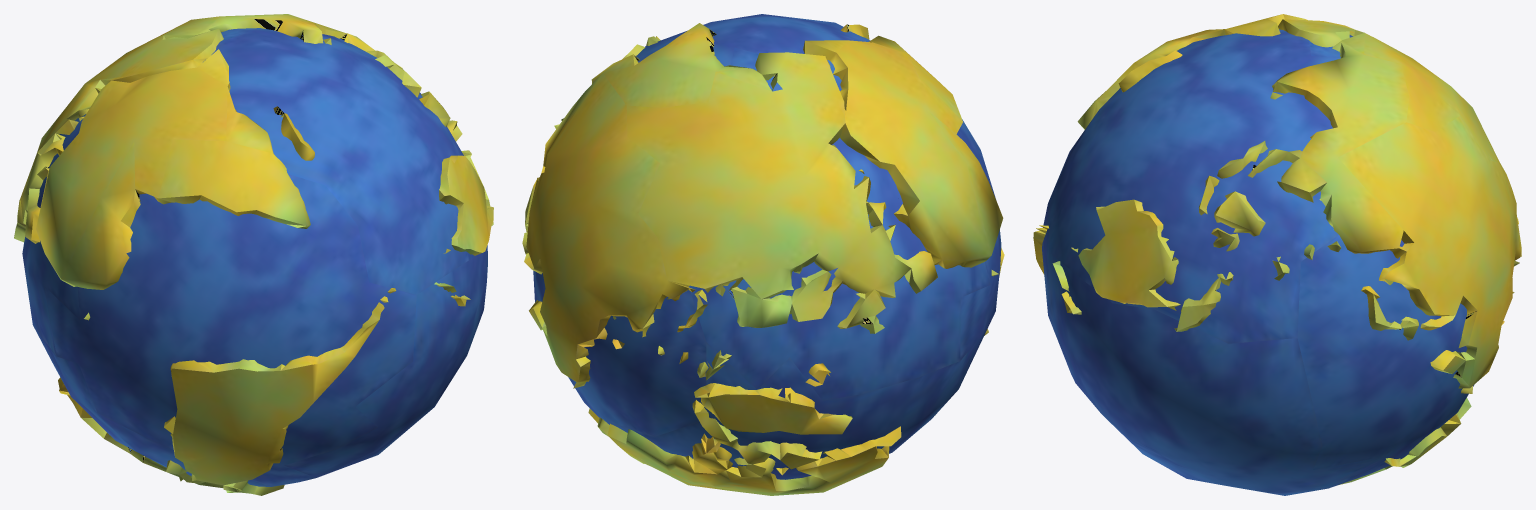
The model's file is Earth.fbx.
The picture shows the model from 3 angles, left to right: view 1: azimuth 30°, elevation 25°; view 2: azimuth 150°, elevation 25°; view 3: azimuth 270°, elevation 25°; orthographic projection.
Visible parts, largest first — view 1: Earth; view 2: Earth; view 3: Earth.
Boxes of the visible parts, <box> form: Earth: <box>14,14,493,495</box>; Earth: <box>522,14,1004,495</box>; Earth: <box>1033,14,1521,495</box>.
Size of the model in its own units: 982 by 992 by 1004.
